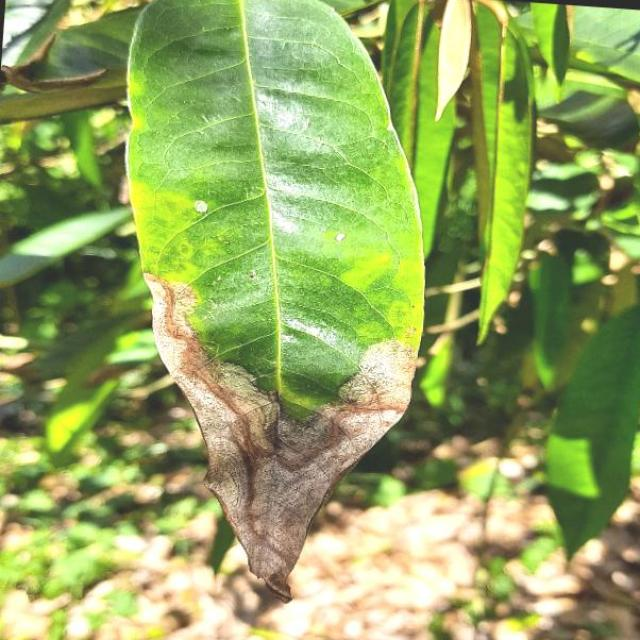Leaf Blight: (84, 1, 452, 616)
